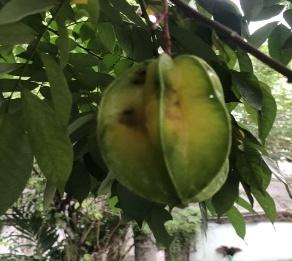Khe: (98, 53, 237, 214)
